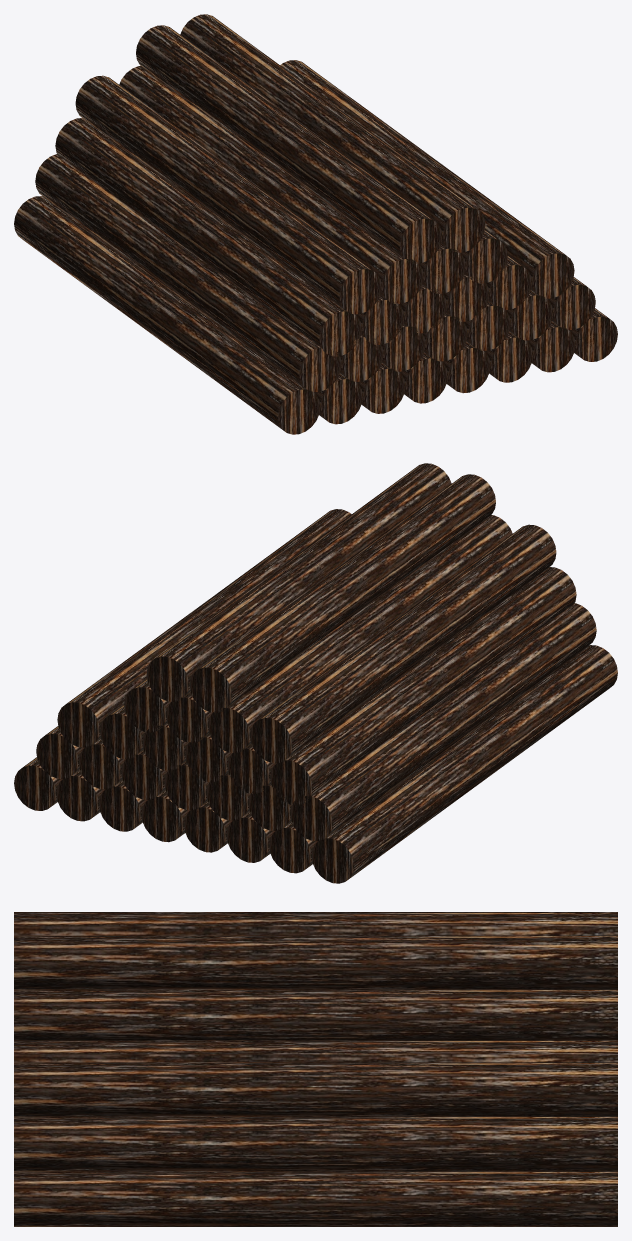
Rendered from Big Wood.fbx.
The picture shows the model from 3 angles, top to bottom: view 1: azimuth 30°, elevation 25°; view 2: azimuth 150°, elevation 25°; view 3: azimuth 270°, elevation 25°; orthographic projection. The views are drawn at different scales.
Visible parts, largest first — view 1: polySurface261; view 2: polySurface261; view 3: polySurface261.
Boxes of the visible parts, box(x1,y1,x2,y2) form: polySurface261: box(14, 14, 617, 434); polySurface261: box(14, 463, 617, 883); polySurface261: box(14, 912, 617, 1226).
Size of the model in its own units: 10.07 by 5.26 by 13.55.
